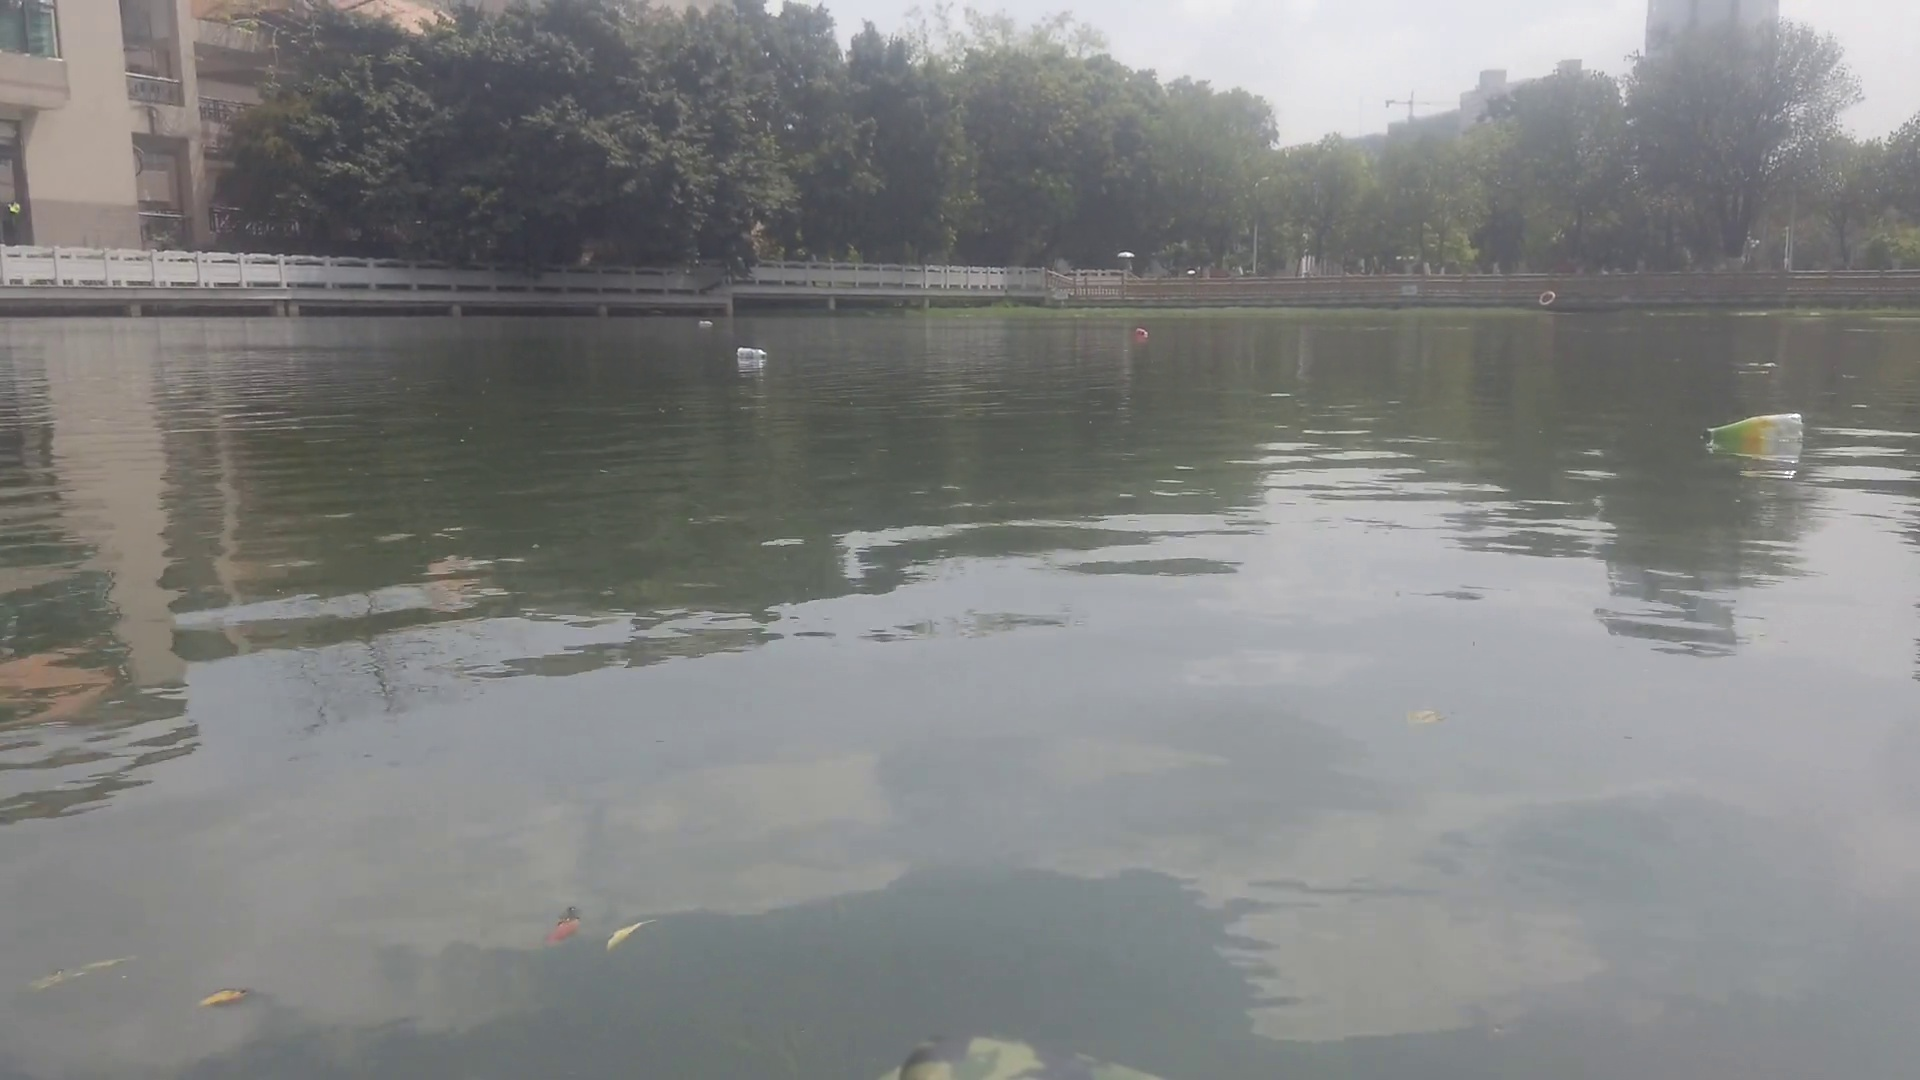bottle: (1698, 410, 1805, 446), (733, 340, 773, 360), (1131, 323, 1150, 338), (696, 316, 713, 326)
